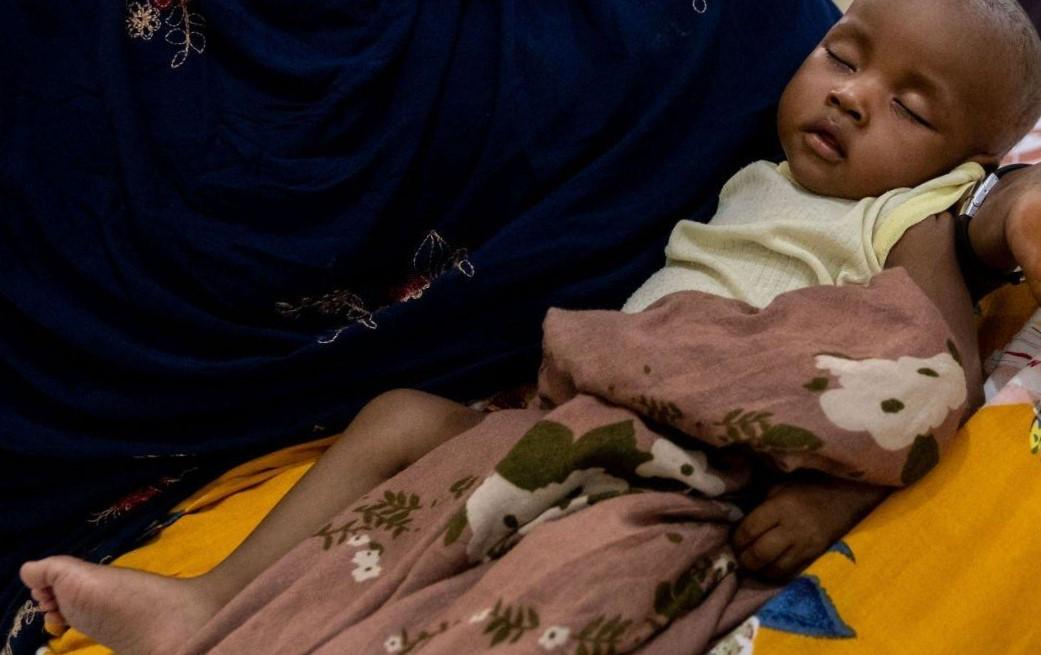Stunting: (783, 0, 1041, 293)
